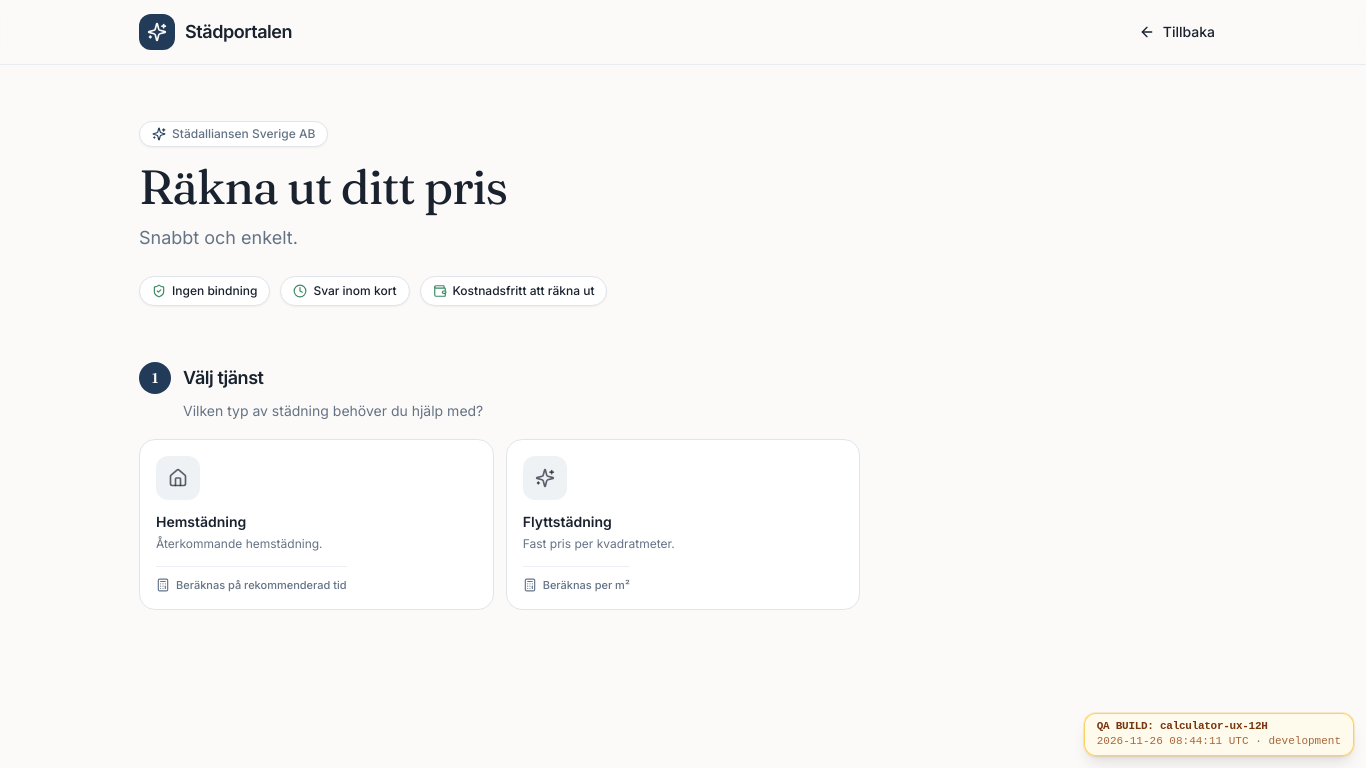
Test case: PriceCalculator — generic add-ons public flow (GPM-10-C) › does NOT render the Tillval step for a service without add-ons
The width and height of the screenshot is (1366, 768).
Click the button "Flyttstädning Fast pris per kvadratmeter. Beräknas per m²": coordinates (545, 478) [506, 439, 860, 610]
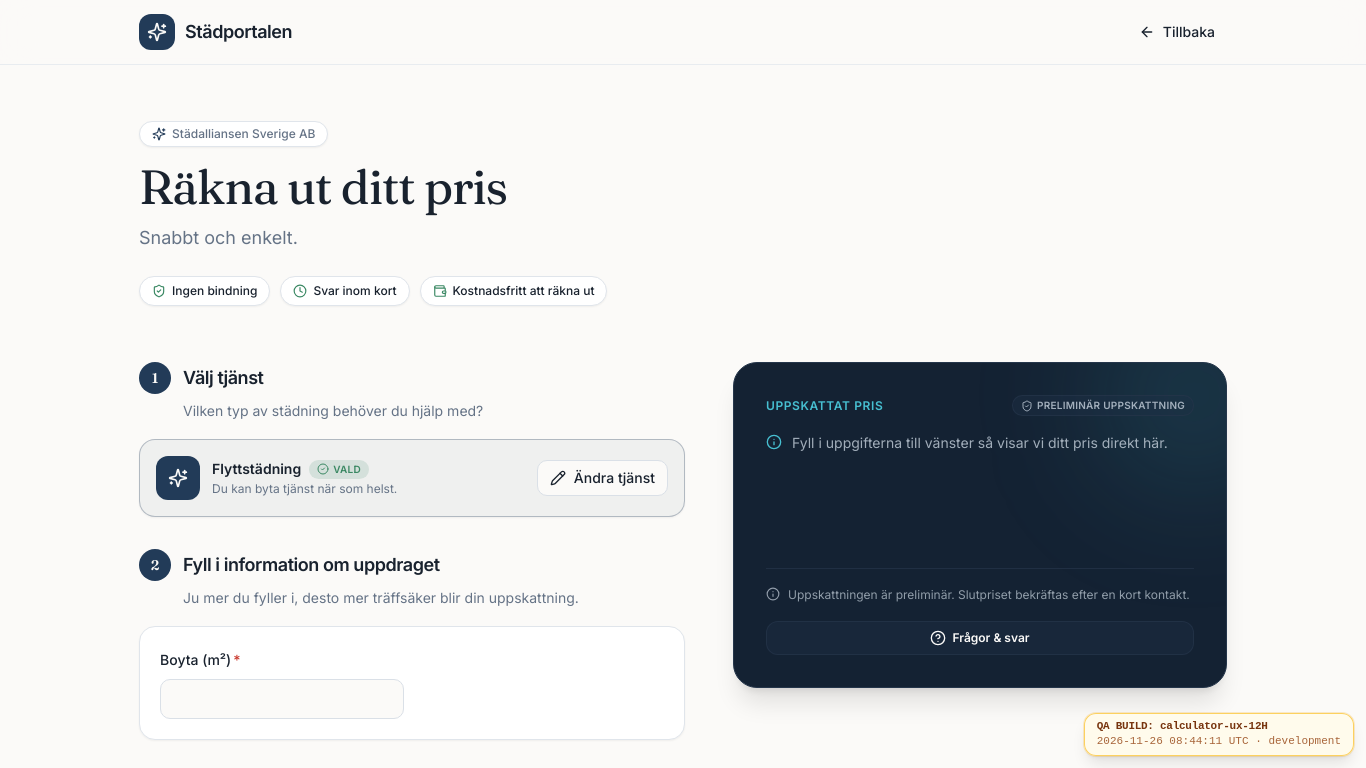
Check: the heading "Fyll i information om uppdraget" is shown, box [183, 551, 440, 579]
